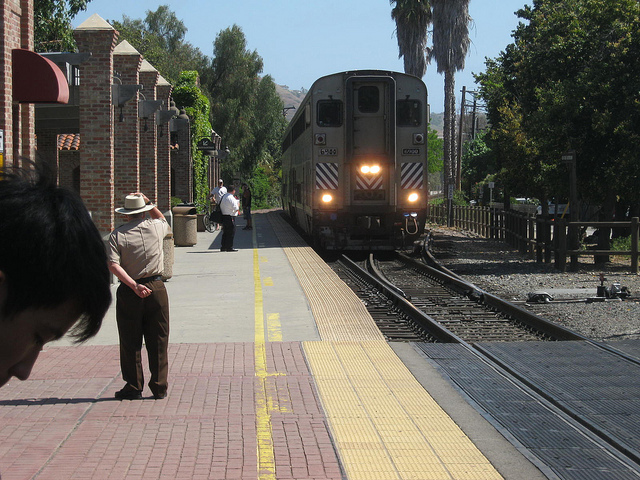Person: (109, 193, 182, 397), (215, 186, 245, 250)
Train: (285, 68, 434, 235)
